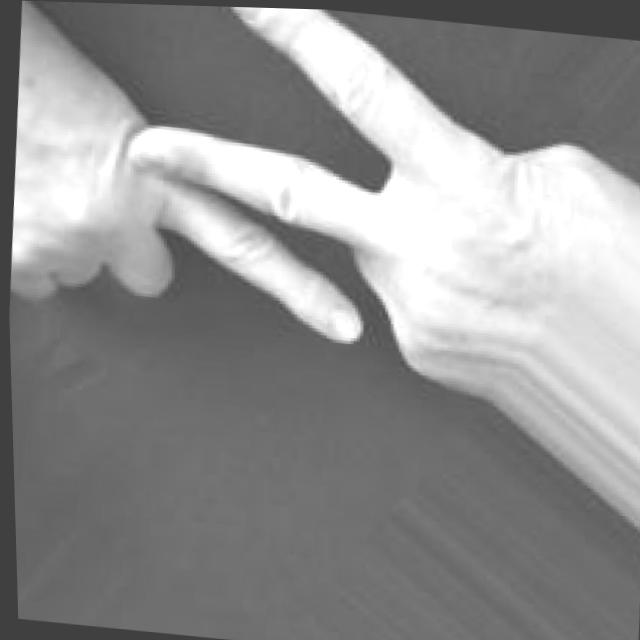Z: (0, 0, 586, 404)
